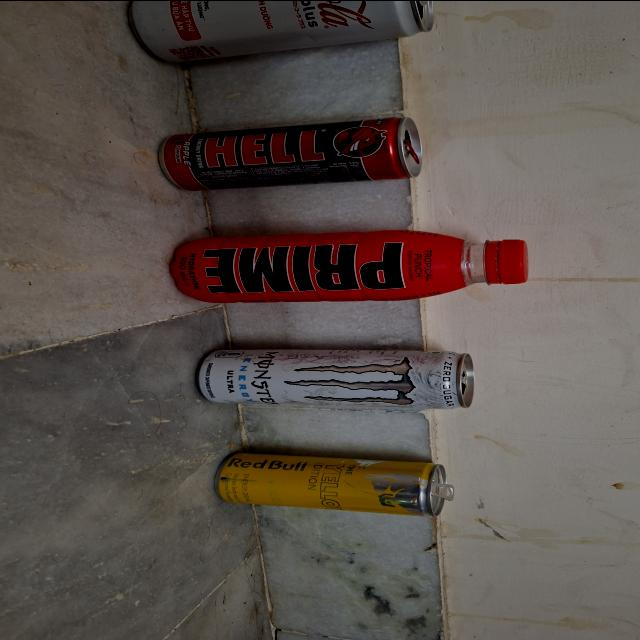Coca Cola Plus: (158, 112, 428, 194), (122, 0, 436, 63)
Prime - Shitass: (165, 220, 546, 308)
Redbull Yellow Edition: (210, 452, 458, 514)
White Monster: (196, 344, 480, 414)
